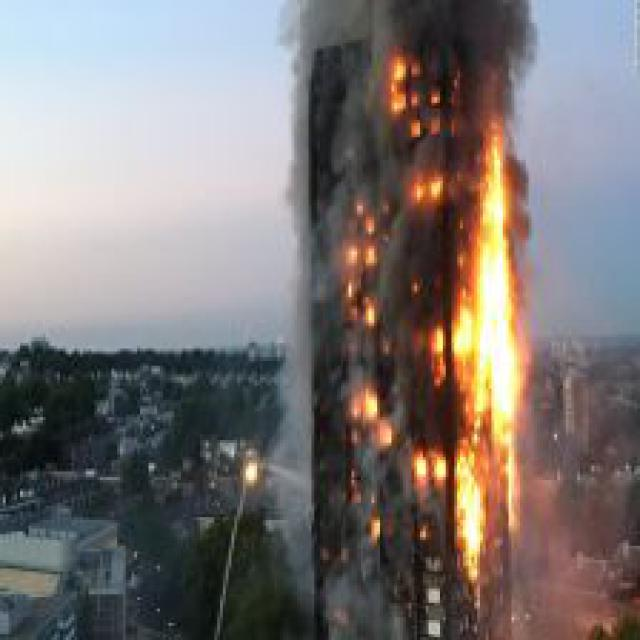fire: (429, 94, 534, 600)
